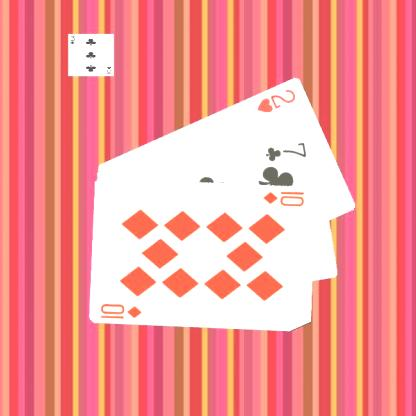10D: (97, 300, 144, 320), (260, 188, 306, 207)
2H: (254, 86, 297, 114)
7C: (262, 139, 308, 162)
